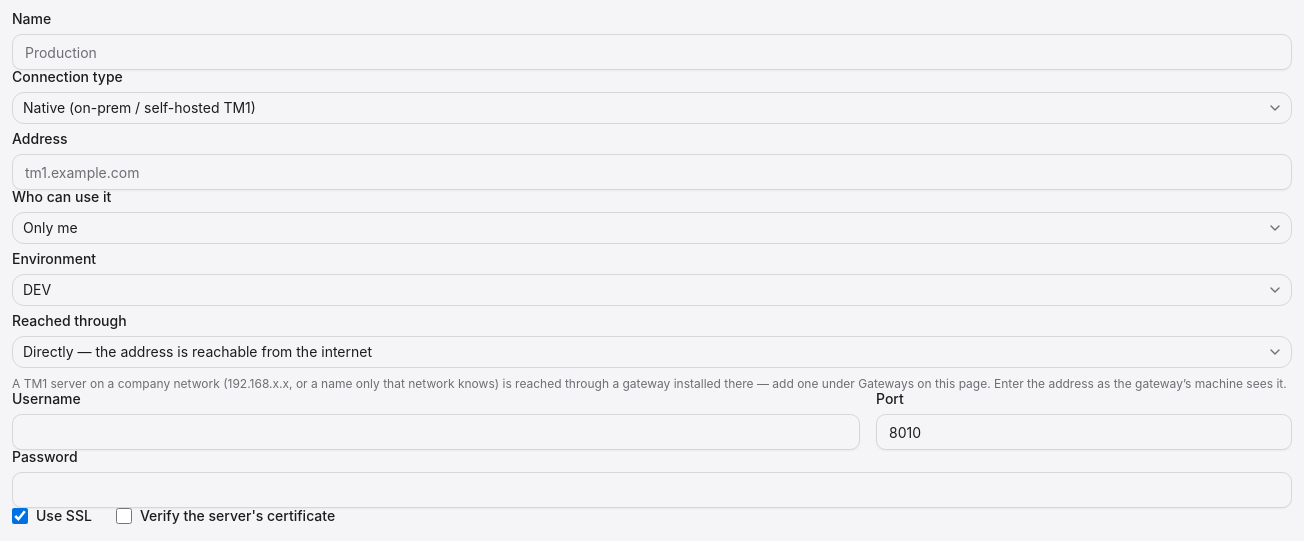
Scenario: reached through a gateway › offers the organization's gateways for an on-premises server
Click the dropdown named "Reached through" at [198, 352], box [12,336,1292,368]
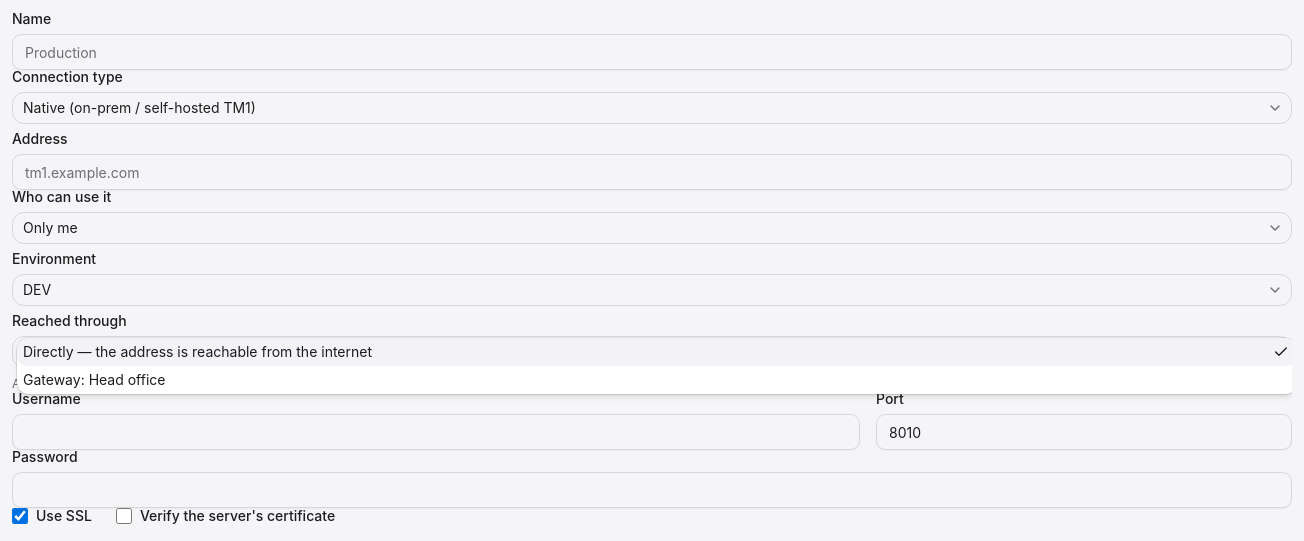
Check: the option "Gateway: Head office" is shown, box [23,371,166,388]
